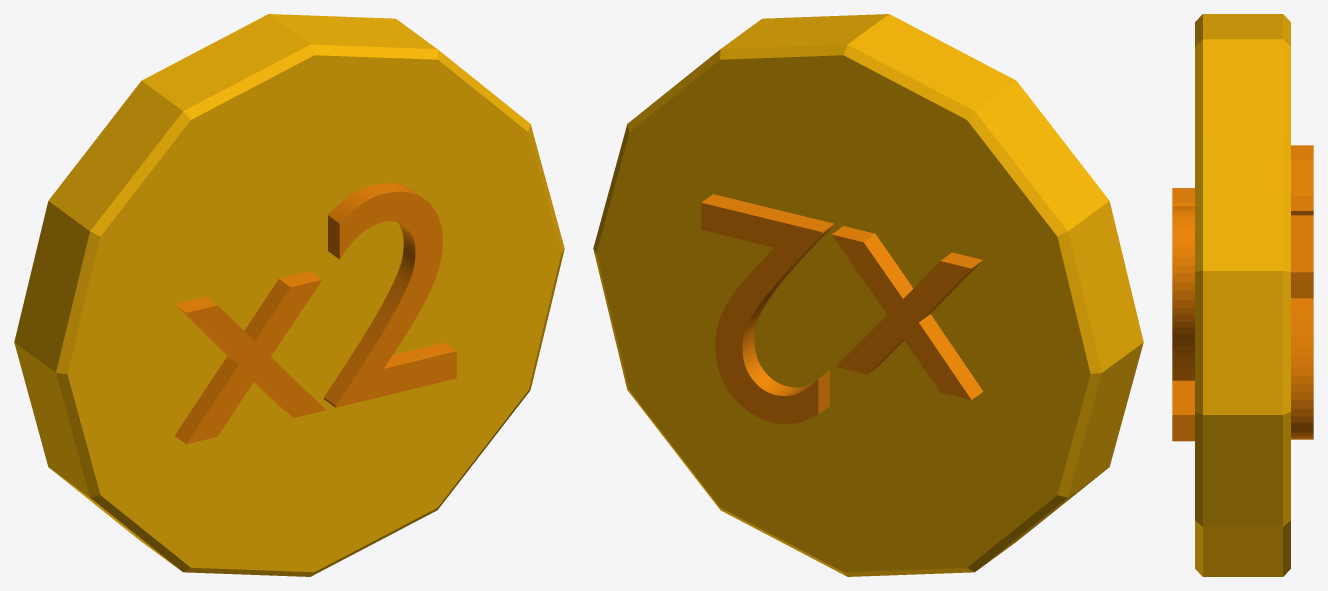
The model's file is altin-x2.glb.
The picture shows the model from 3 angles, left to right: view 1: azimuth 30°, elevation 25°; view 2: azimuth 150°, elevation 25°; view 3: azimuth 270°, elevation 25°; orthographic projection. The views are drawn at different scales.
Visible parts, largest first — view 1: altin-x2; view 2: altin-x2; view 3: altin-x2.
Boxes of the visible parts, <box> form: altin-x2: <box>14,14,564,576</box>; altin-x2: <box>593,14,1143,576</box>; altin-x2: <box>1172,14,1313,576</box>.
Bounding box in the file's own units: 0.9901 × 0.9901 × 0.2475.
